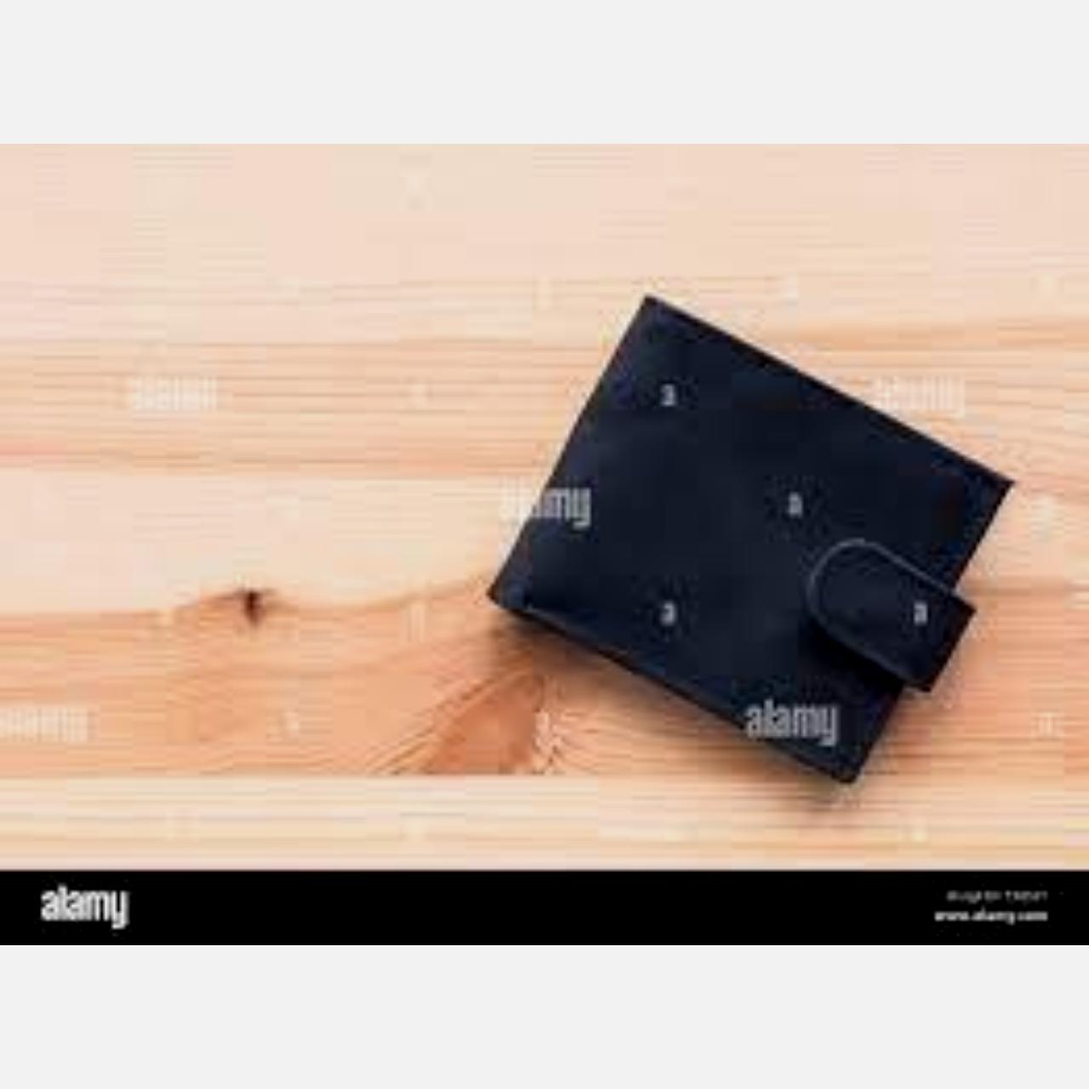wallet: (484, 272, 1020, 779)
